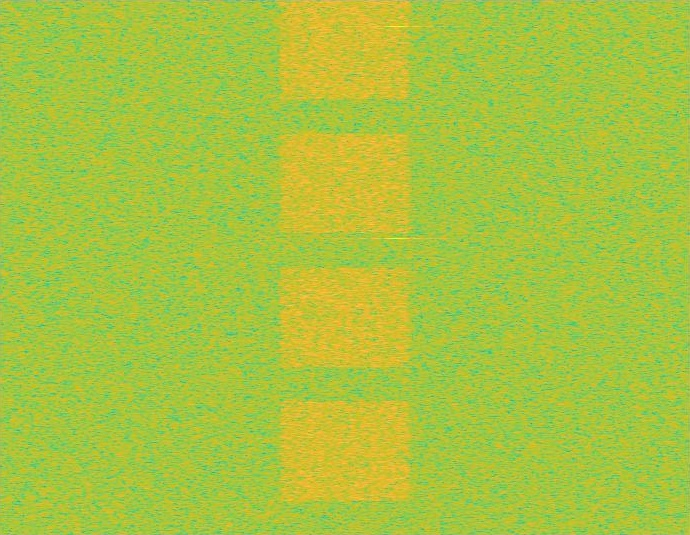5G: (276, 0, 414, 534)
Radar: (390, 0, 403, 534)
